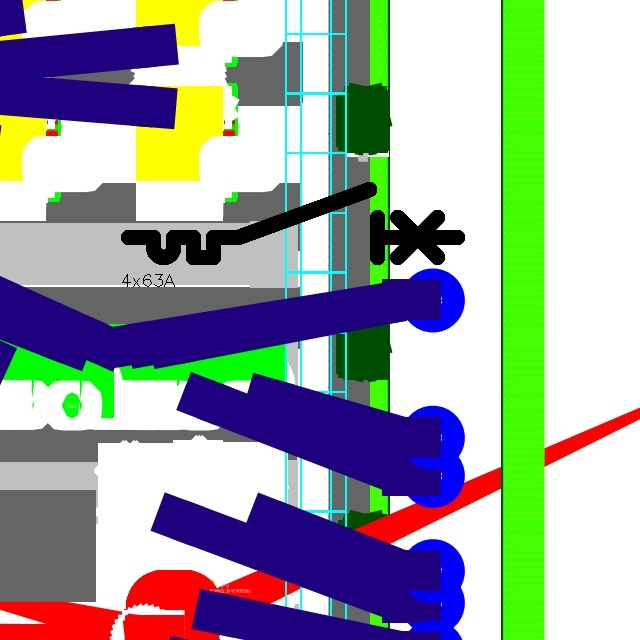interruptor_termomagnetico: (120, 181, 466, 266)
